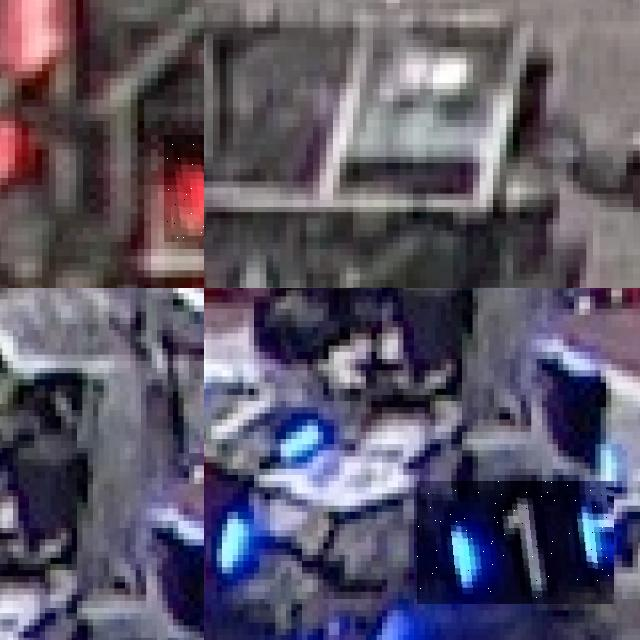B1: (417, 481, 614, 604), (204, 370, 323, 456), (204, 456, 254, 579)
